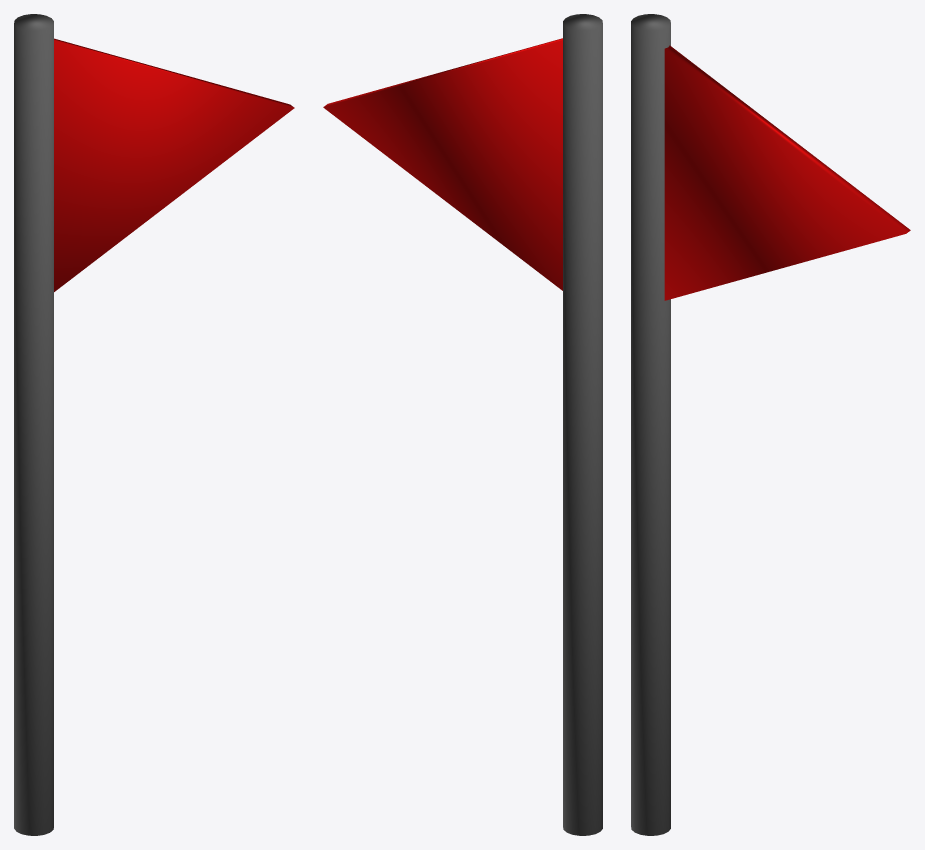
The model's file is flag.fbx.
3 views of the same model, side by side, from view 1: azimuth 30°, elevation 25°; view 2: azimuth 150°, elevation 25°; view 3: azimuth 330°, elevation 25° (orthographic).
Visible parts, largest first — view 1: Cylinder; view 2: Cylinder; view 3: Cylinder.
Boxes of the visible parts, box(x1,y1,x2,y2) form: Cylinder: box(14, 14, 294, 835); Cylinder: box(323, 14, 602, 835); Cylinder: box(631, 14, 910, 835).
Size of the model in its own units: 78.77 by 220 by 10.
